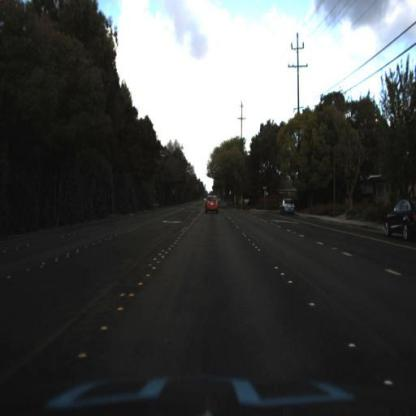car: (384, 197, 416, 242), (203, 191, 221, 221), (281, 196, 296, 216)
